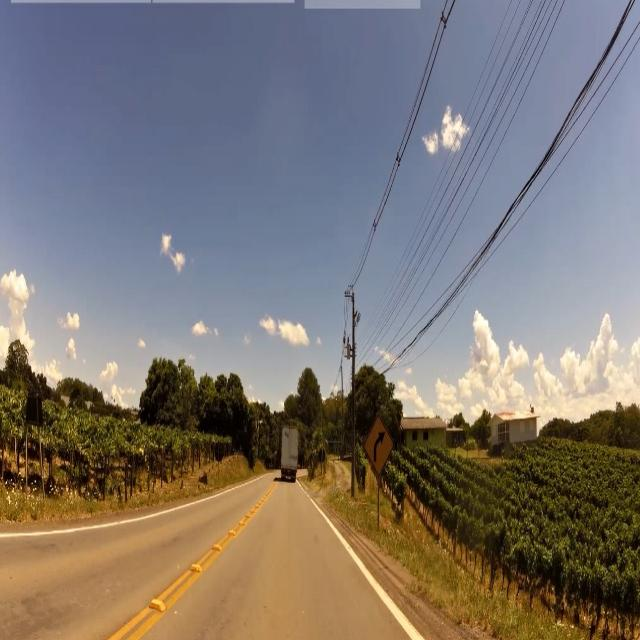A-2b: (366, 415, 392, 475)
